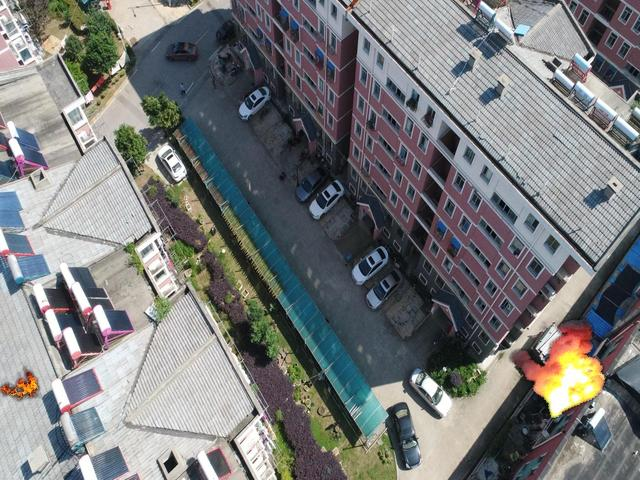fire: (508, 316, 607, 419), (1, 366, 40, 402)
